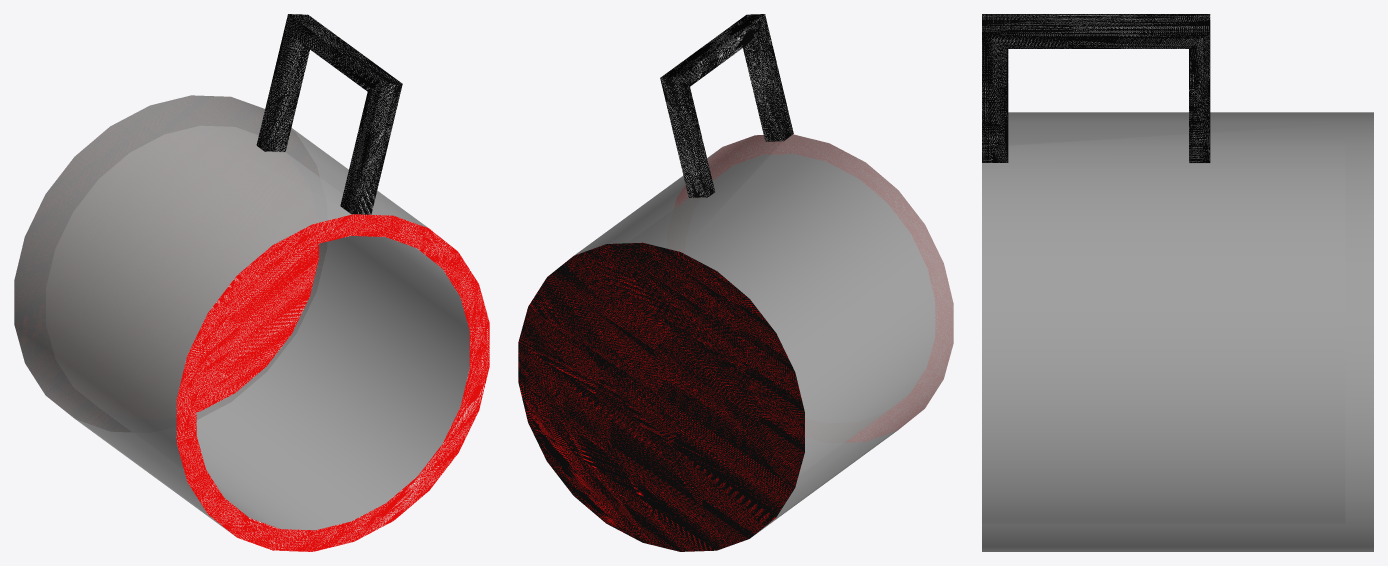
The model's file is model_scale.obj.
3 views of the same model, side by side, from view 1: azimuth 30°, elevation 25°; view 2: azimuth 150°, elevation 25°; view 3: azimuth 270°, elevation 25° (orthographic). The views are drawn at different scales.
Visible parts, largest first — view 1: mesh1_mesh1-geometry; view 2: mesh1_mesh1-geometry; view 3: mesh1_mesh1-geometry.
Part boxes in pixels (left/top/right/bottom): mesh1_mesh1-geometry: left=14, top=14, right=489, bottom=551; mesh1_mesh1-geometry: left=518, top=14, right=953, bottom=551; mesh1_mesh1-geometry: left=982, top=14, right=1373, bottom=551.
Size of the model in its own units: 0.0904 by 0.1247 by 0.0812.
